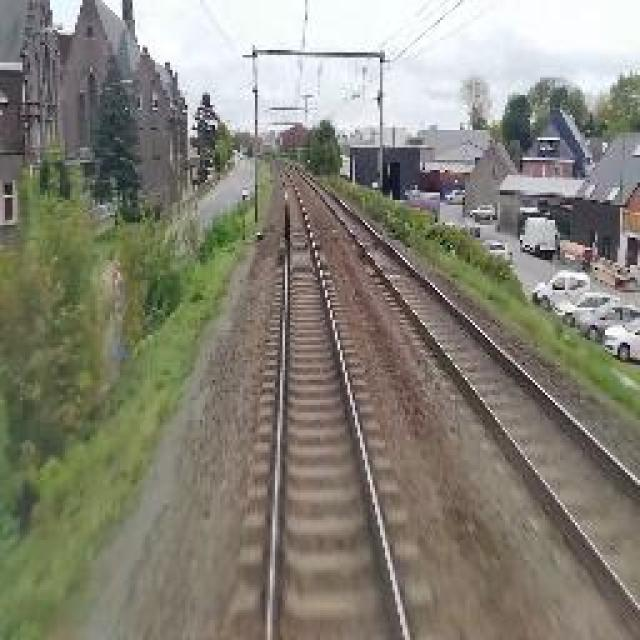rail: (225, 162, 453, 640)
